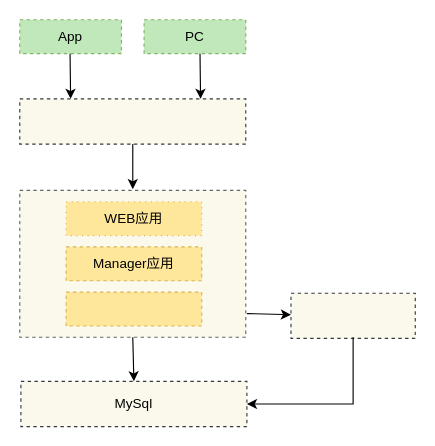
Image size: 435x446. Some labels were removed from this diagram. The shapes that lost their labels are listed below. From the top down, each one's centre as x and y in pixels, then its label:
At (132,121): "Nginx".
At (133,308): "业务逻辑(Service)".
At (352,315): "Redis".
